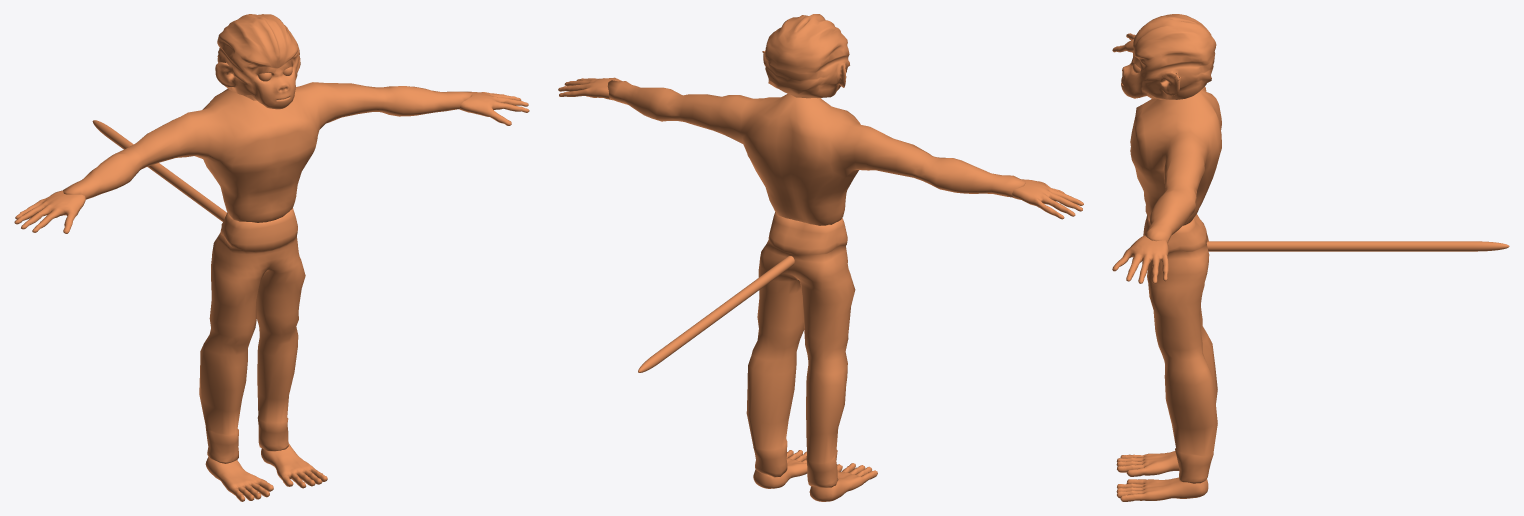
Rendered from MonkeyFBX.fbx.
3 renders of one model, left to right at view 1: azimuth 30°, elevation 25°; view 2: azimuth 150°, elevation 25°; view 3: azimuth 270°, elevation 25°, orthographic. The views are drawn at different scales.
Parts seen in each view (by area): view 1: MonkeyBody; view 2: MonkeyBody; view 3: MonkeyBody.
Part boxes in pixels (box(x1,y1,x2,y2)): MonkeyBody: box(14, 14, 529, 501); MonkeyBody: box(558, 14, 1083, 501); MonkeyBody: box(1112, 14, 1509, 501).
Bounding box in the file's own units: 445 × 385 × 297.
